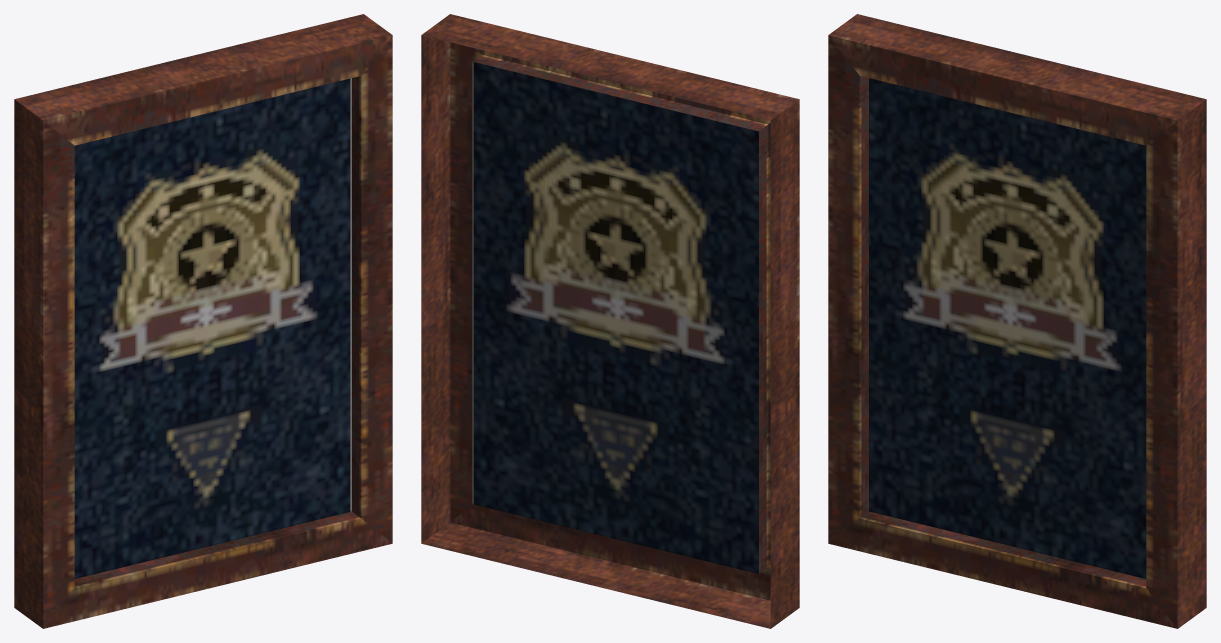
The model's file is 215_wallitem.fbx.
3 renders of one model, left to right at view 1: azimuth 30°, elevation 25°; view 2: azimuth 150°, elevation 25°; view 3: azimuth 330°, elevation 25°, orthographic.
Visible parts, largest first — view 1: LOD_1_Group_1_Sub_1__sm32_212_WallItem01A_A_Mat, LOD_1_Group_0_Sub_1__sm32_212_WallItem01A_A_Mat; view 2: LOD_1_Group_1_Sub_1__sm32_212_WallItem01A_A_Mat, LOD_1_Group_0_Sub_1__sm32_212_WallItem01A_A_Mat; view 3: LOD_1_Group_1_Sub_1__sm32_212_WallItem01A_A_Mat, LOD_1_Group_0_Sub_1__sm32_212_WallItem01A_A_Mat.
Part boxes in pixels (box(x1,y1,x2,y2)): LOD_1_Group_1_Sub_1__sm32_212_WallItem01A_A_Mat: box(74, 78, 351, 578); LOD_1_Group_0_Sub_1__sm32_212_WallItem01A_A_Mat: box(14, 14, 392, 628); LOD_1_Group_1_Sub_1__sm32_212_WallItem01A_A_Mat: box(472, 61, 758, 573); LOD_1_Group_0_Sub_1__sm32_212_WallItem01A_A_Mat: box(421, 14, 799, 628); LOD_1_Group_1_Sub_1__sm32_212_WallItem01A_A_Mat: box(869, 78, 1146, 578); LOD_1_Group_0_Sub_1__sm32_212_WallItem01A_A_Mat: box(828, 14, 1206, 628).
Bounding box in the file's own units: 0.2132 × 0.2964 × 0.0306.
